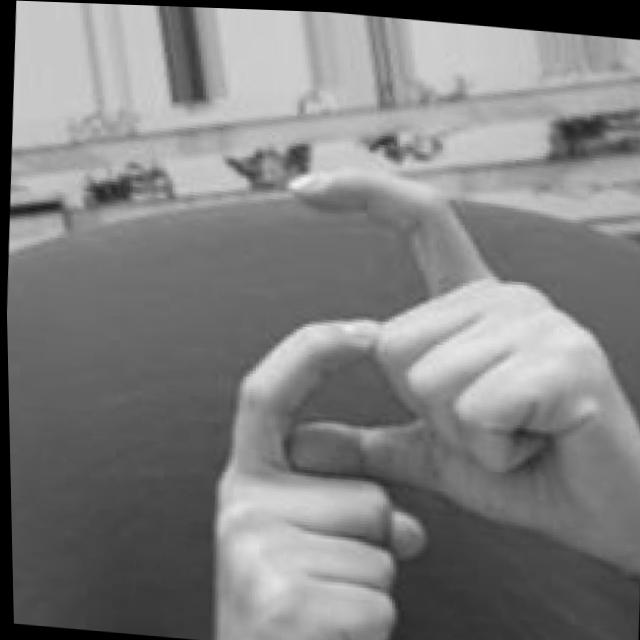G: (197, 138, 640, 640)
